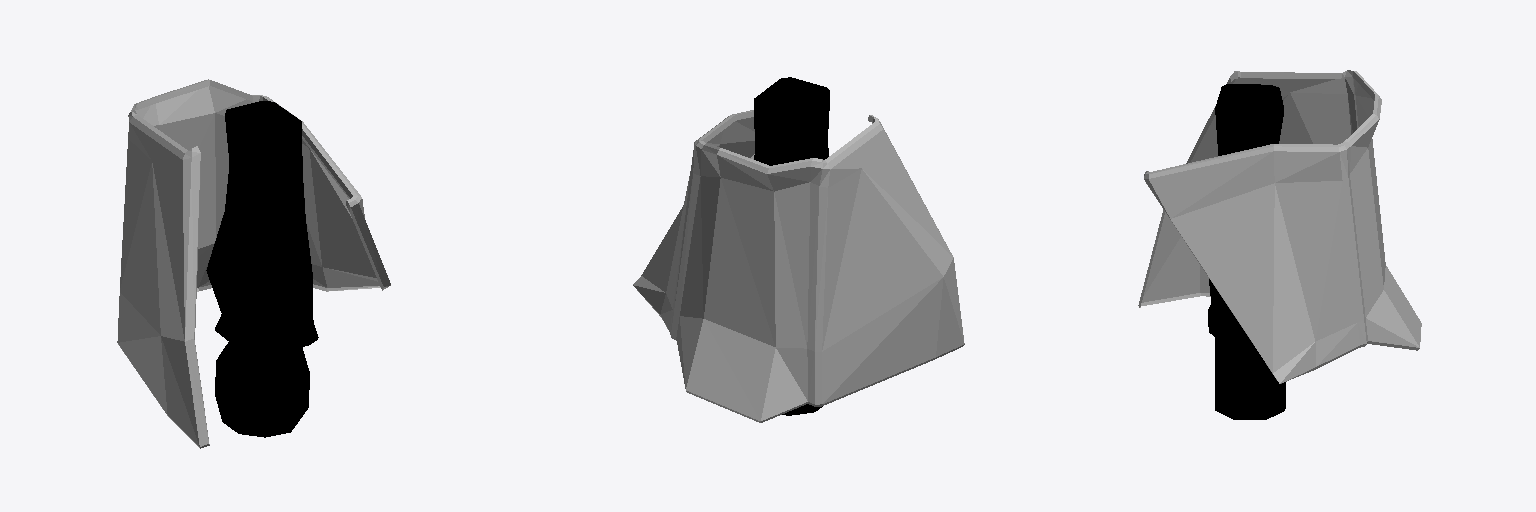
File: Collar_Right.obj
3 renders of one model, left to right at view 1: azimuth 30°, elevation 25°; view 2: azimuth 150°, elevation 25°; view 3: azimuth 270°, elevation 25°, orthographic.
Visible parts, largest first — view 1: collar_right, collarbone_right; view 2: collar_right, collarbone_right; view 3: collar_right, collarbone_right.
Part boxes in pixels (x1,y1,x2,y2): collar_right: (117, 79, 390, 448); collarbone_right: (206, 101, 318, 437); collar_right: (633, 110, 964, 422); collarbone_right: (754, 77, 829, 415); collar_right: (1138, 70, 1421, 383); collarbone_right: (1208, 84, 1285, 419).
Bounding box in the file's own units: 0.9124 × 0.9961 × 0.8272.